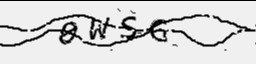0: (59, 19, 79, 47)
G: (149, 16, 170, 44)
S: (119, 14, 137, 40)
W: (89, 14, 110, 40)
